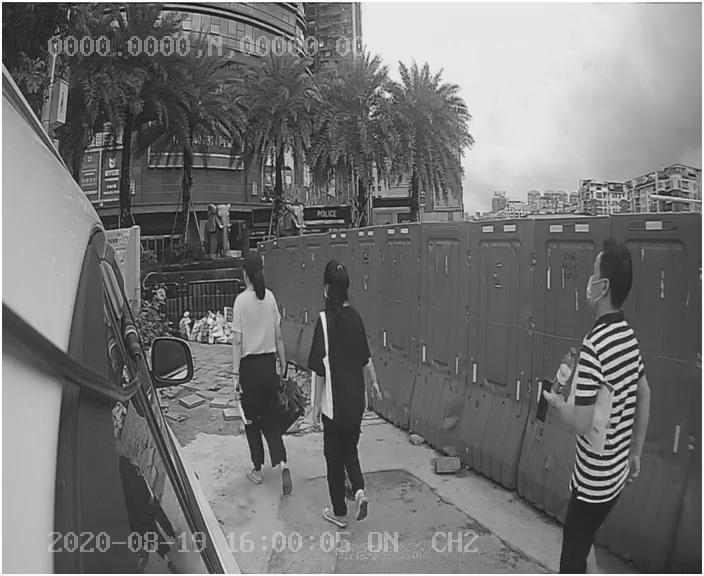person: (296, 255, 407, 527), (213, 249, 307, 499)
